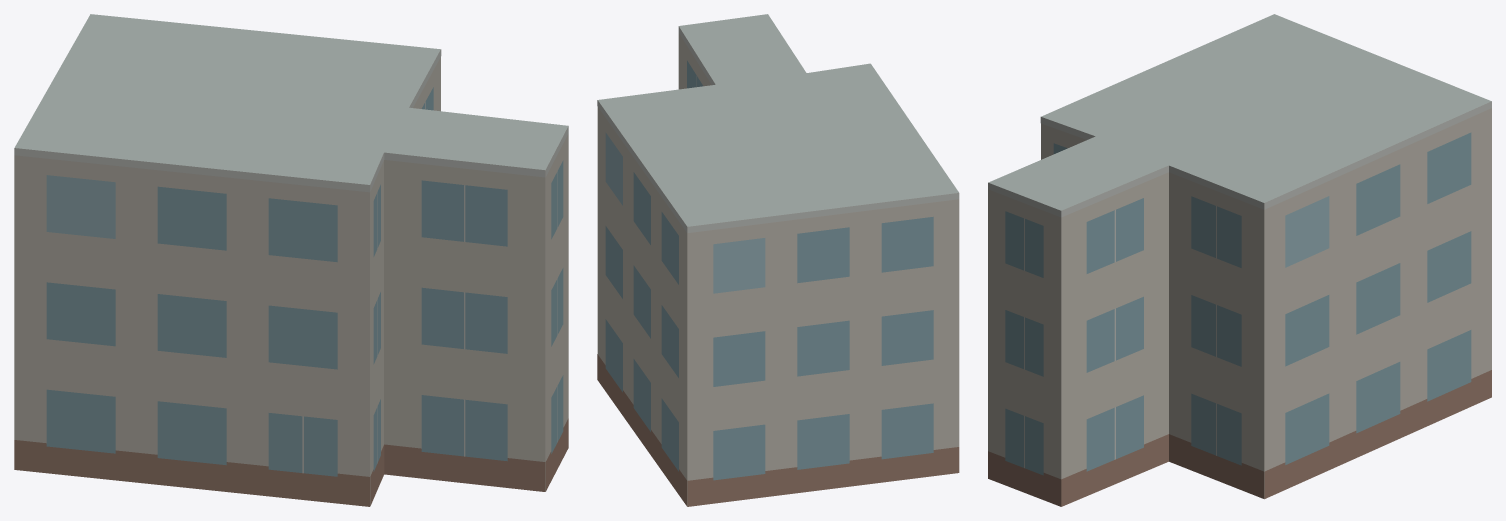
File: survey-upis-32935530.glb
3 renders of one model, left to right at view 1: azimuth 30°, elevation 25°; view 2: azimuth 150°, elevation 25°; view 3: azimuth 270°, elevation 25°, orthographic. The views are drawn at different scales.
Visible parts, largest first — view 1: survey-upis-32935530.tmp; view 2: survey-upis-32935530.tmp; view 3: survey-upis-32935530.tmp.
Part boxes in pixels (x1,y1,x2,y2): survey-upis-32935530.tmp: [14, 14, 568, 506]; survey-upis-32935530.tmp: [597, 14, 959, 506]; survey-upis-32935530.tmp: [988, 14, 1491, 506].
Bounding box in the file's own units: 15.33 × 10.75 × 16.58.
